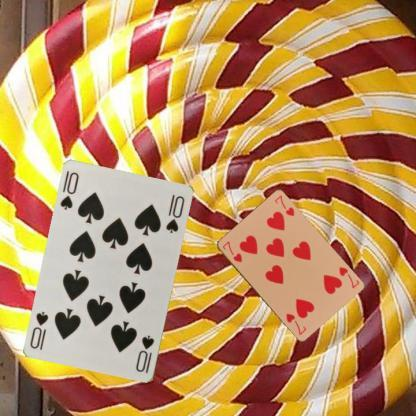10s: (133, 333, 156, 375), (58, 170, 80, 212)
7h: (336, 264, 361, 290), (220, 238, 243, 263)
